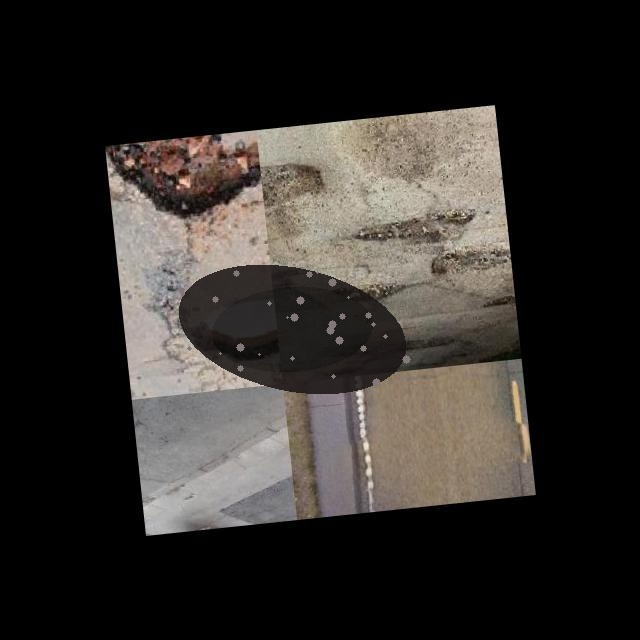pothole: (172, 263, 412, 395)
